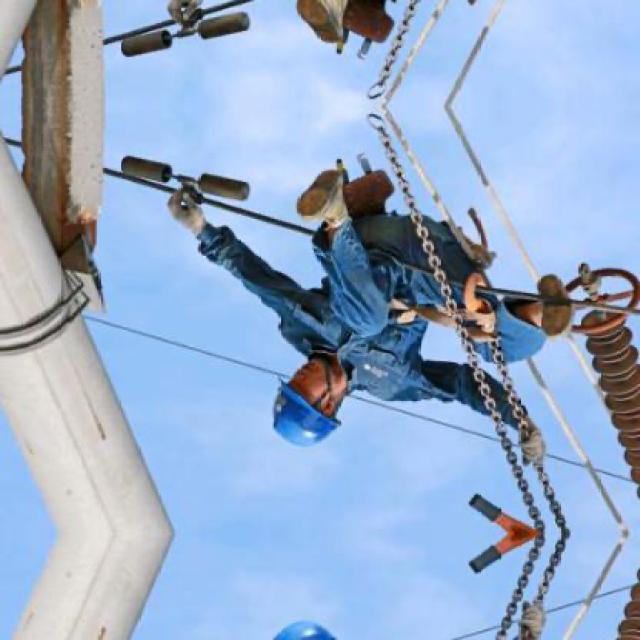con casco: (225, 374, 378, 456)
